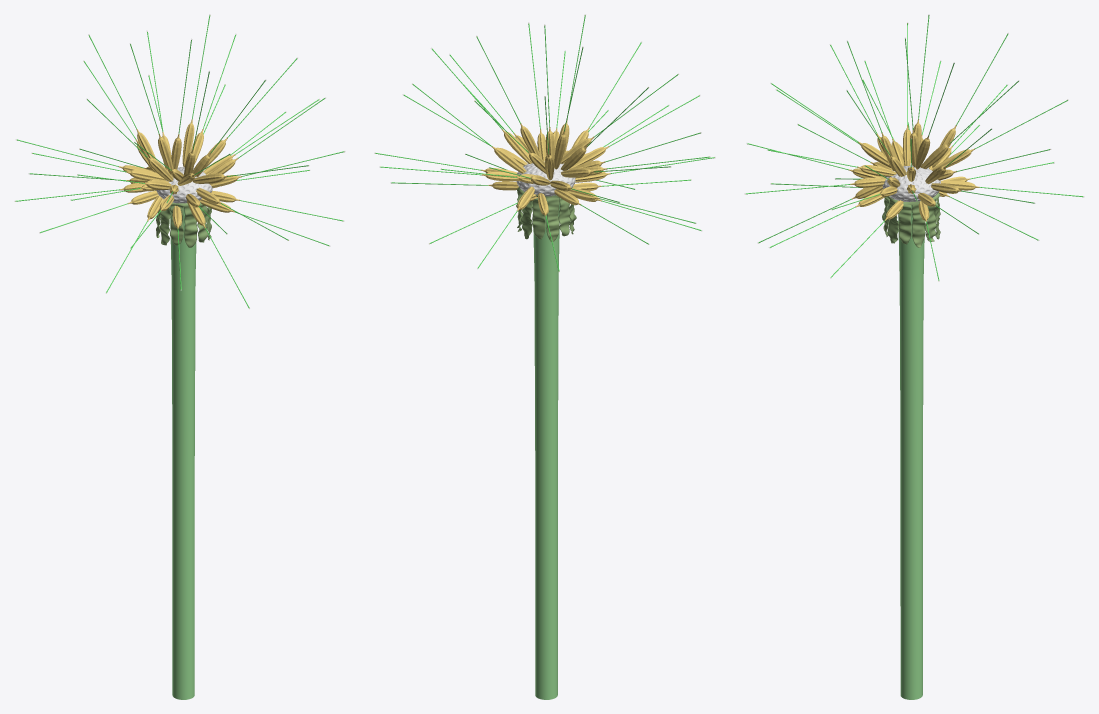
Rendered from holy hair.fbx.
3 views of the same model, side by side, from view 1: azimuth 30°, elevation 25°; view 2: azimuth 150°, elevation 25°; view 3: azimuth 270°, elevation 25° (orthographic).
Parts seen in each view (by area): view 1: stem, leaf stem, pod; view 2: stem, leaf stem, pod; view 3: stem, leaf stem, pod.
Boxes of the visible parts, x1,y1,x2,y2 form: stem: (170,207,196,699); leaf stem: (156,202,211,247); pod: (156,167,212,203); stem: (533,202,560,699); leaf stem: (516,187,576,241); pod: (516,161,575,196); stem: (898,205,924,699); leaf stem: (882,193,940,247); pod: (882,165,940,201).
Bounding box in the file's own units: 2613 × 5729 × 2676.
